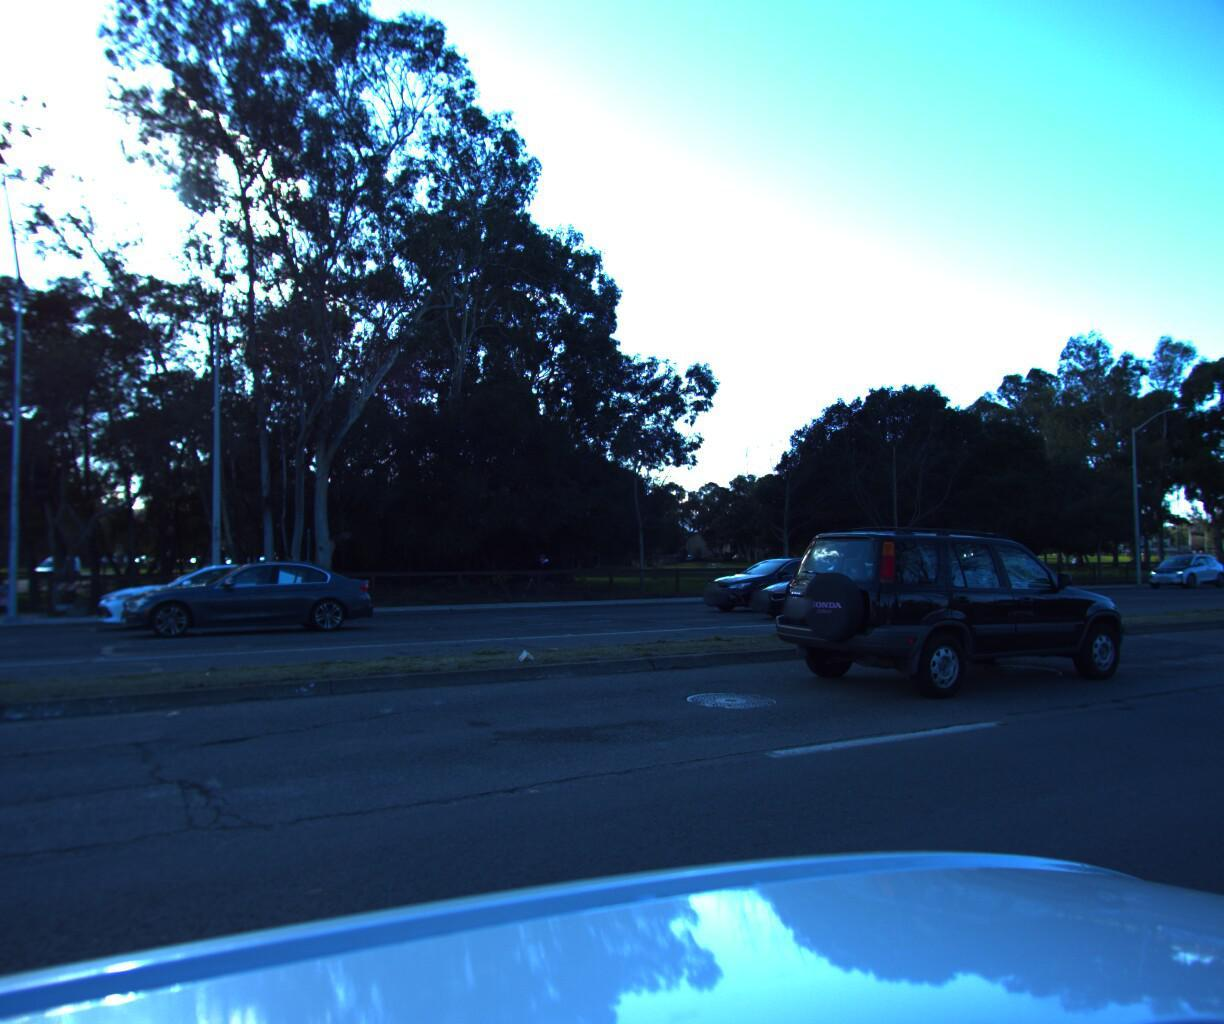car: (726, 498, 1142, 712), (106, 561, 366, 642), (86, 560, 325, 634), (734, 550, 932, 621), (684, 551, 867, 612), (1134, 546, 1224, 583), (24, 553, 84, 578)
